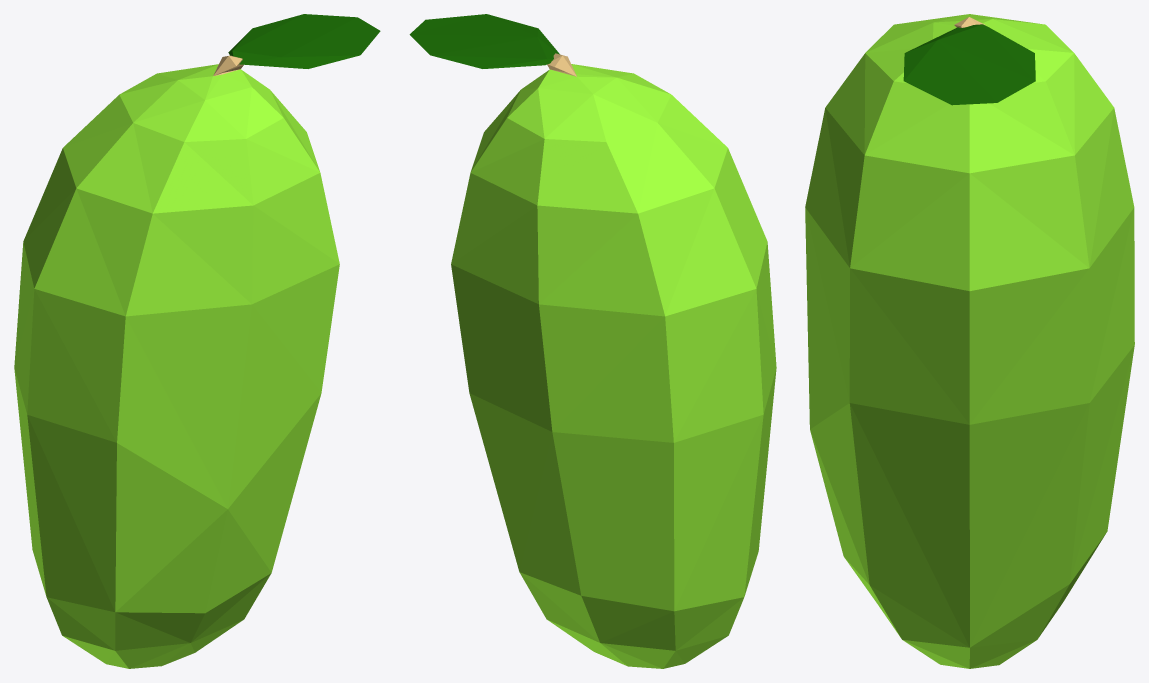
The model's file is MangoModelFBX.fbx.
The picture shows the model from 3 angles, left to right: view 1: azimuth 30°, elevation 25°; view 2: azimuth 150°, elevation 25°; view 3: azimuth 270°, elevation 25°; orthographic projection. The views are drawn at different scales.
Parts seen in each view (by area): view 1: Cube; view 2: Cube; view 3: Cube.
Boxes of the visible parts, x1,y1,x2,y2 form: Cube: (14,14,380,668); Cube: (409,14,776,668); Cube: (805,14,1134,668).
Size of the model in its own units: 206 by 337 by 146.
